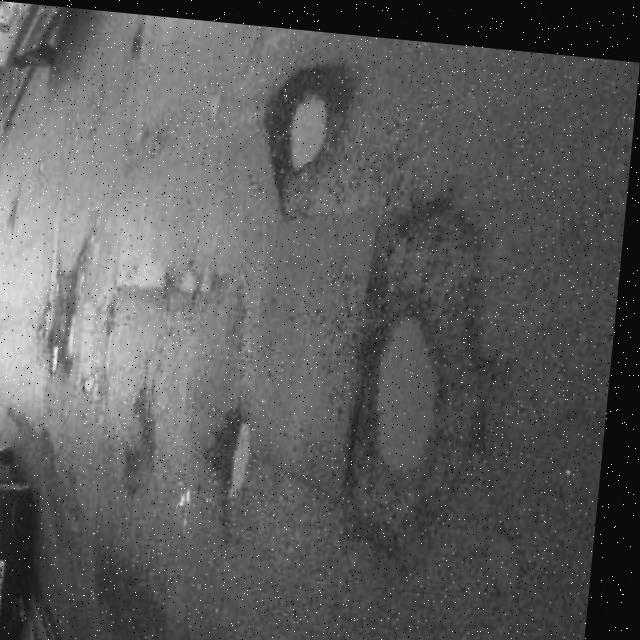Pothole: (343, 184, 499, 570), (258, 51, 356, 194), (48, 270, 90, 378), (222, 404, 263, 502)
